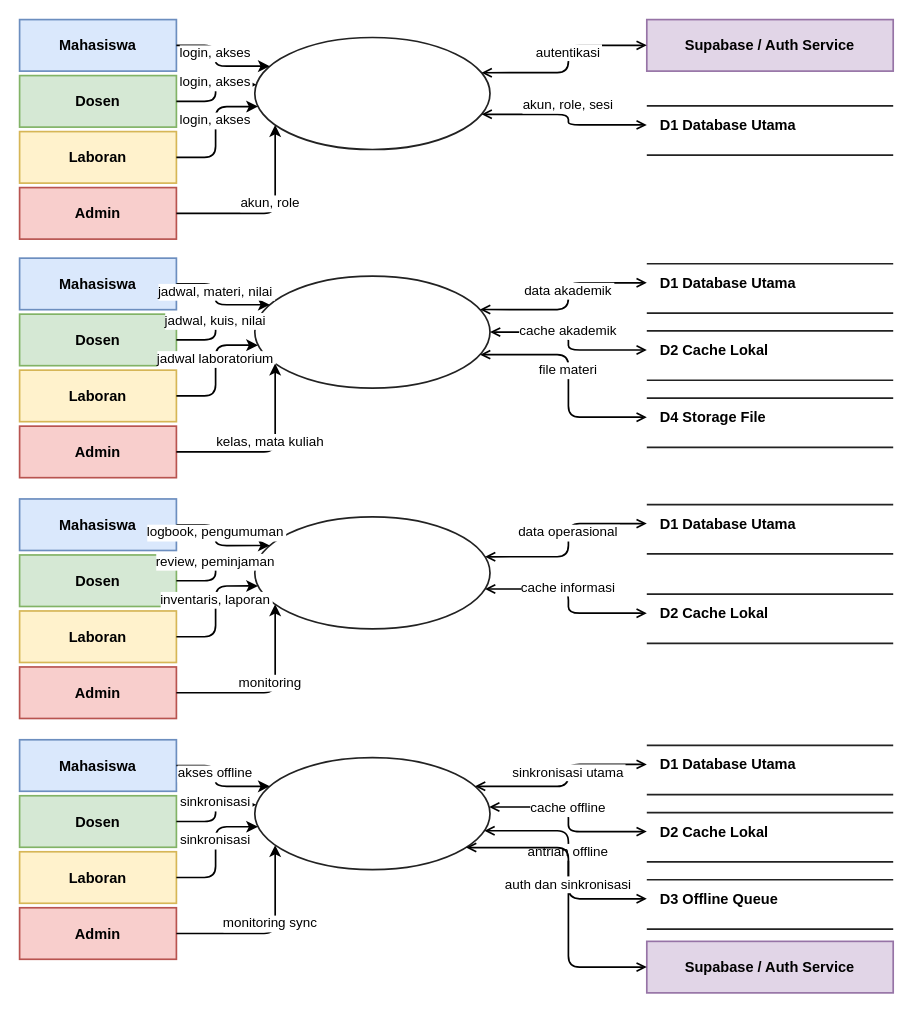
Image size: 914x1014. Some labels were removed from this diagram. Each missing label, with the centre of its shape:
1.0 Manajemen Akun dan Akses: pixel 371 93
2.0 Manajemen Akademik Praktikum: pixel 371 331
3.0 Operasional dan Layanan Laboratorium: pixel 371 572
4.0 Layanan PWA dan Sinkronisasi Offline: pixel 371 813
